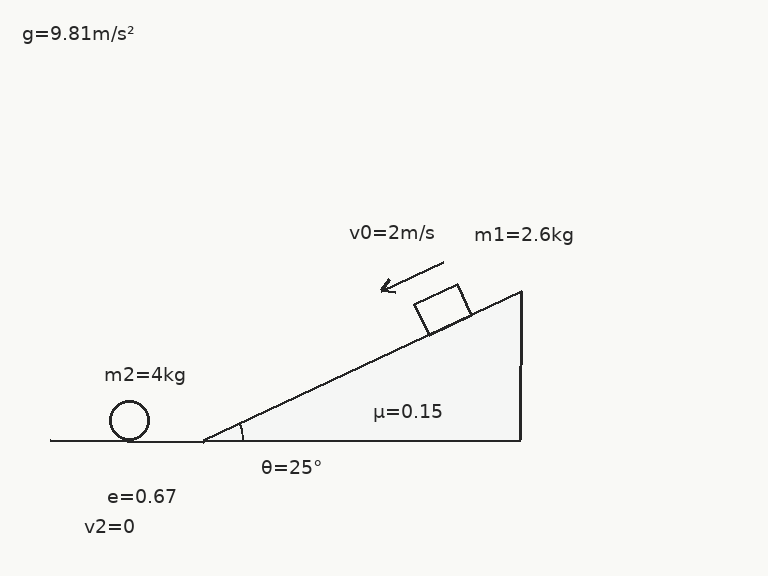ball: (107, 398, 151, 442)
block: (413, 282, 473, 337)
ramp: (201, 290, 522, 442)
